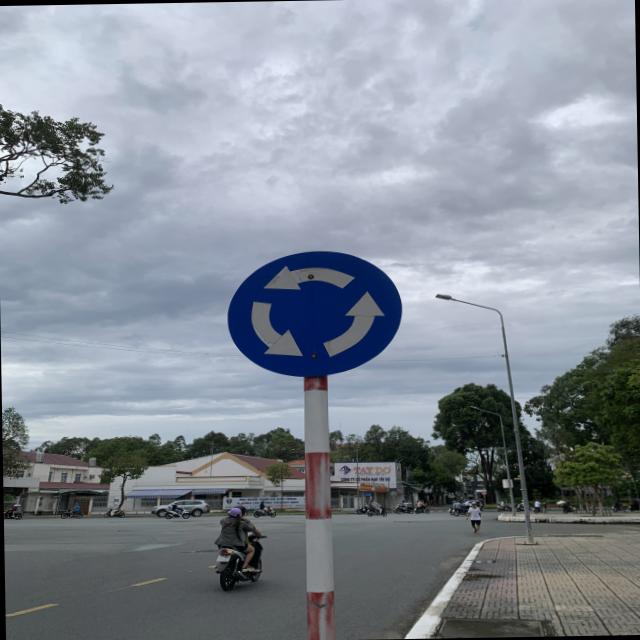Xe_Bus: (224, 246, 406, 379)
